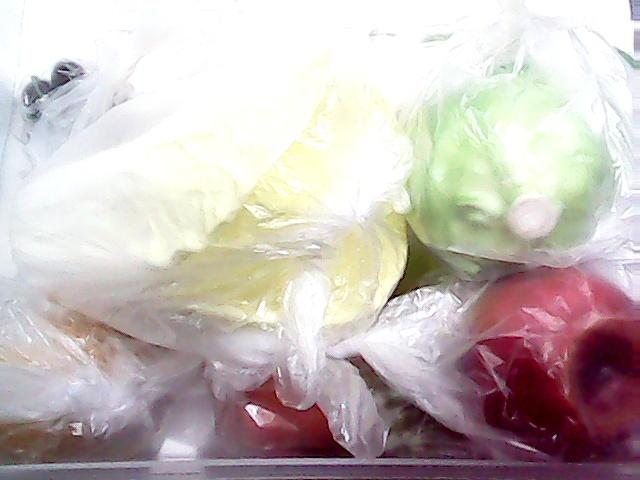apple: (470, 264, 640, 432)
cabbage: (404, 48, 624, 272)
grape: (356, 350, 456, 460), (8, 62, 128, 150)
napa cabbage: (3, 70, 469, 354)
peach: (214, 347, 370, 457)
potato: (0, 305, 172, 463)
